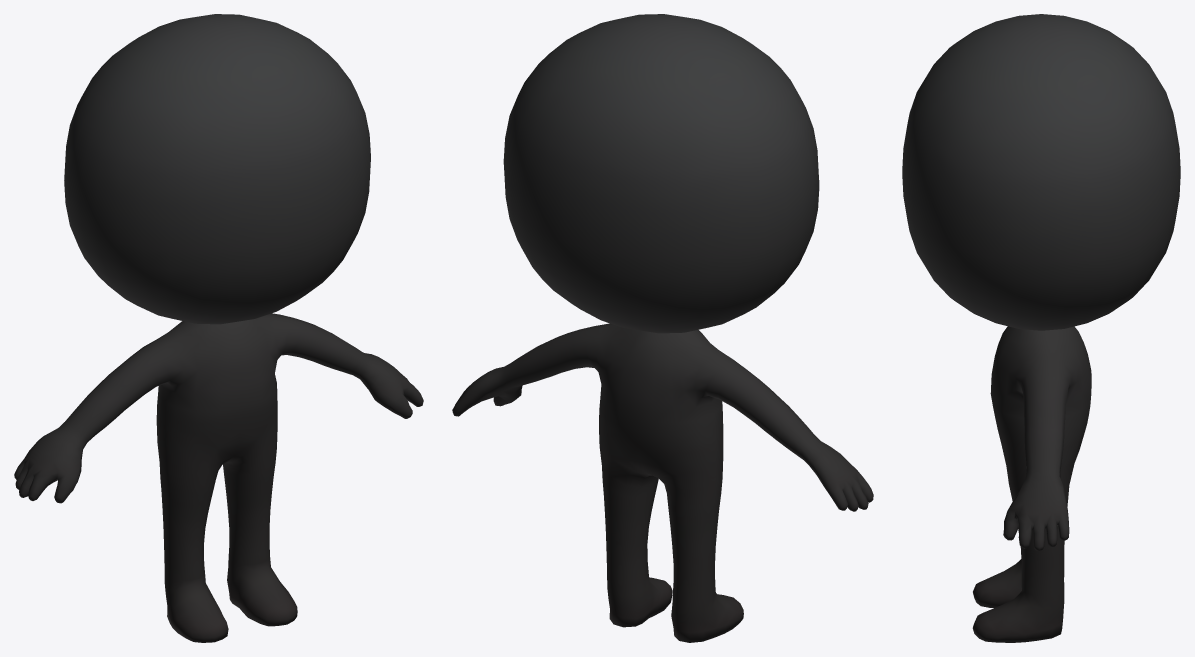
File: Body_16.glb
3 views of the same model, side by side, from view 1: azimuth 30°, elevation 25°; view 2: azimuth 150°, elevation 25°; view 3: azimuth 270°, elevation 25° (orthographic). The views are drawn at different scales.
Parts seen in each view (by area): view 1: Body_16; view 2: Body_16; view 3: Body_16.
Part boxes in pixels (x1=…): Body_16: x1=14, y1=14, x2=423, y2=642; Body_16: x1=452, y1=14, x2=873, y2=642; Body_16: x1=902, y1=14, x2=1180, y2=642.
Bounding box in the file's own units: 0.828 × 1.15 × 0.4965.
Materials: 1 (1 with a texture image).
